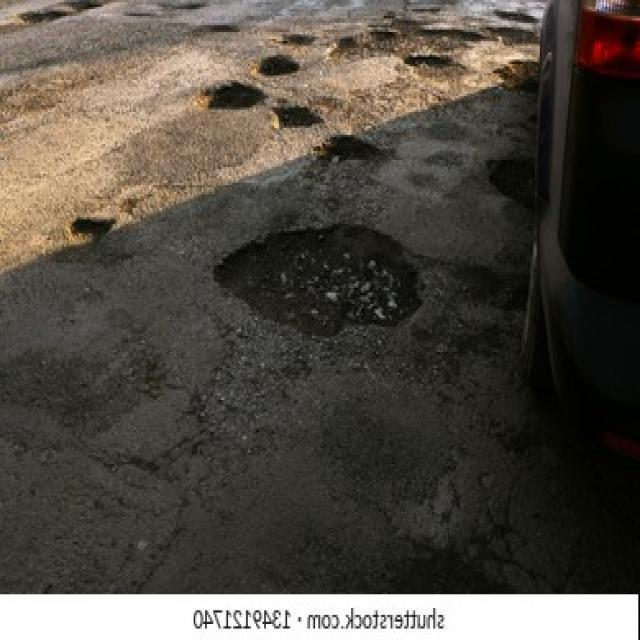pothole: (212, 220, 427, 341), (325, 27, 483, 64), (312, 135, 393, 190), (486, 156, 534, 211), (404, 55, 467, 92), (64, 213, 117, 254), (197, 80, 262, 112), (494, 59, 539, 96), (269, 105, 323, 133), (491, 25, 537, 57), (258, 53, 303, 81), (17, 9, 66, 28), (53, 0, 107, 16), (493, 7, 539, 23), (268, 32, 314, 46)
